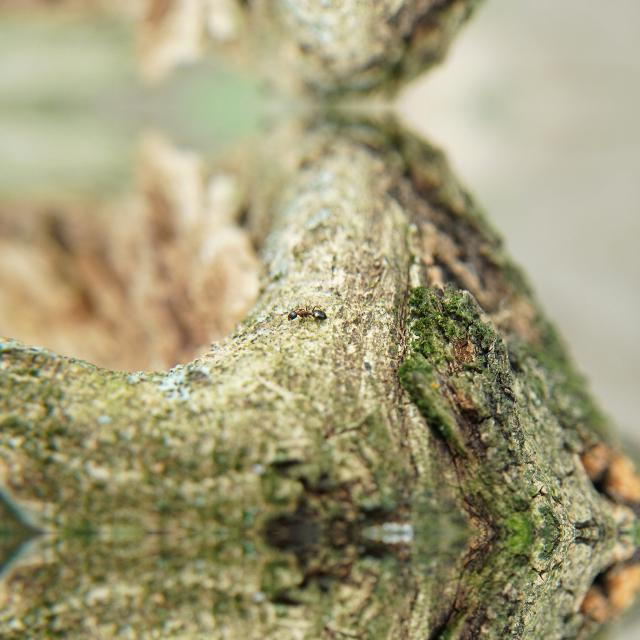Dolichoderus: (276, 297, 336, 325)
